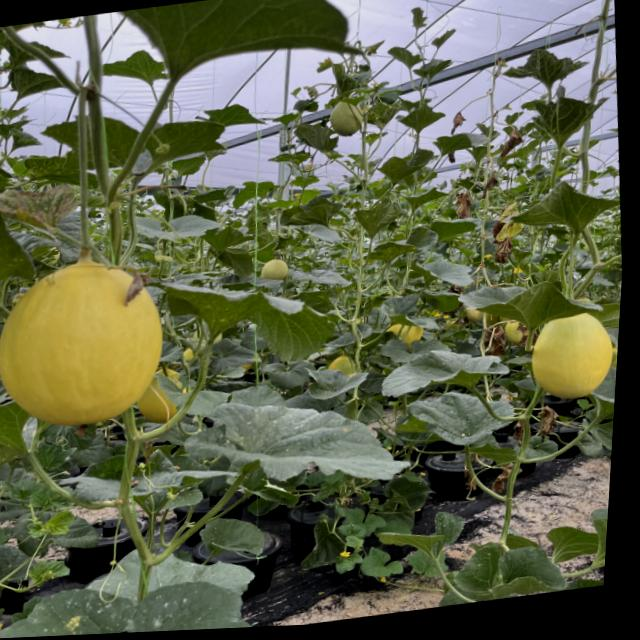SLCV: (529, 89, 615, 152), (497, 41, 593, 95)
alternaria leaf blight: (209, 332, 264, 377)
bacterial wilt: (480, 325, 507, 358), (498, 126, 526, 157), (536, 402, 561, 436), (479, 169, 501, 199), (453, 191, 474, 219), (448, 110, 468, 136)
downy mildew: (176, 378, 417, 506), (359, 224, 441, 267)
healthy: (457, 273, 602, 338), (375, 336, 512, 399), (503, 174, 623, 244), (135, 112, 231, 178), (135, 208, 223, 244), (406, 253, 475, 293), (583, 507, 608, 586)
powdery mildew: (0, 562, 271, 639), (450, 535, 569, 603), (404, 383, 518, 453), (373, 508, 468, 567), (196, 511, 266, 563), (300, 358, 372, 403), (378, 290, 443, 338), (377, 331, 453, 366), (380, 471, 437, 515), (583, 359, 617, 423), (154, 486, 204, 510)
